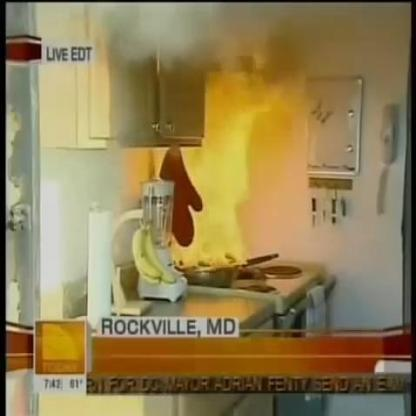fire: (177, 112, 253, 273)
